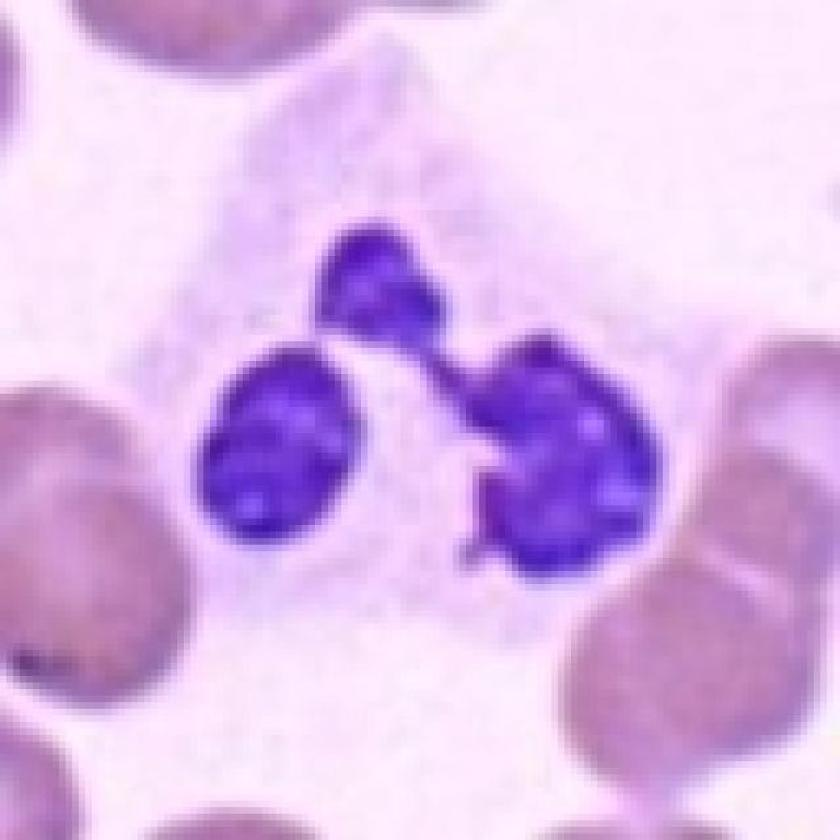neutrophil: (139, 169, 740, 690)
